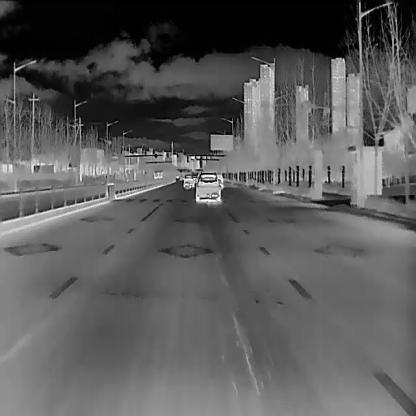car: (195, 171, 220, 202), (182, 173, 195, 189), (153, 168, 163, 178)
